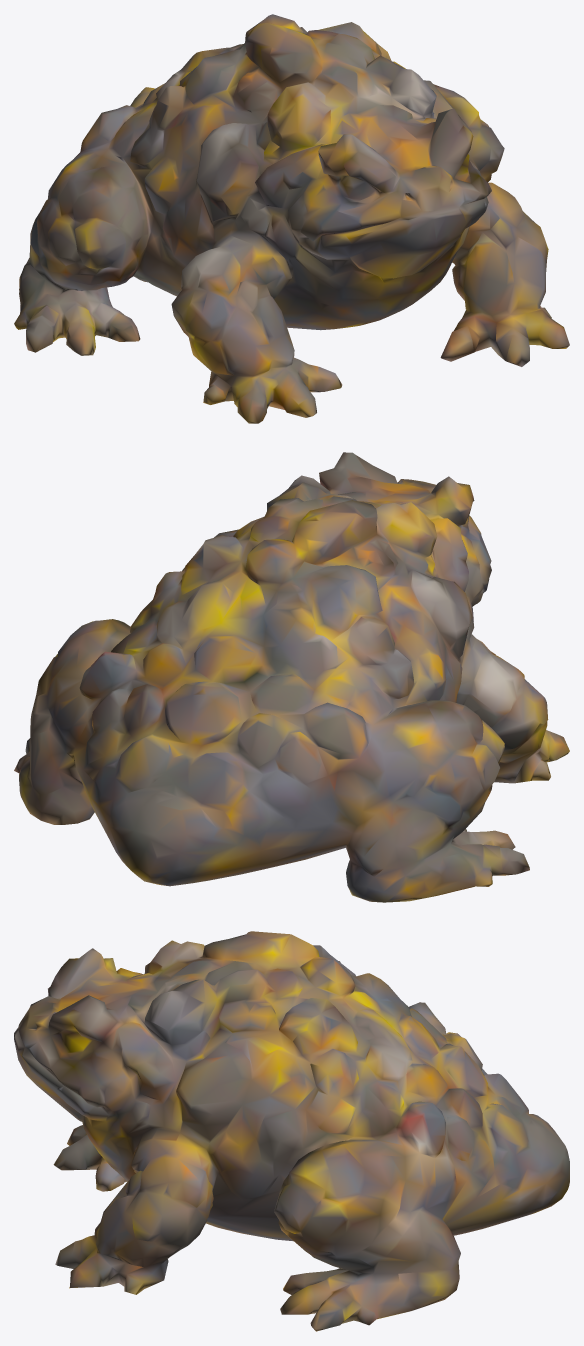
Rendered from AshToad_game.glb.
3 renders of one model, top to bottom at view 1: azimuth 30°, elevation 25°; view 2: azimuth 150°, elevation 25°; view 3: azimuth 270°, elevation 25°, orthographic. The views are drawn at different scales.
Visible parts, largest first — view 1: AshToad; view 2: AshToad; view 3: AshToad.
Boxes of the visible parts, x1,y1,x2,y2 form: AshToad: (14,14,569,423); AshToad: (14,452,569,902); AshToad: (14,931,569,1331).
Size of the model in its own units: 1.04 by 0.5625 by 1.05.
